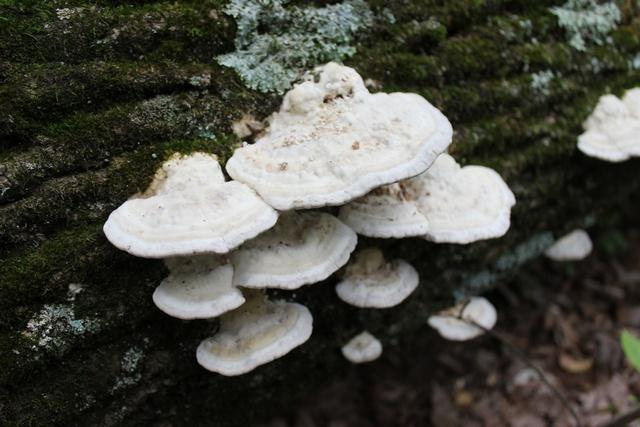Non-edible Mushroom: (102, 60, 516, 375)
